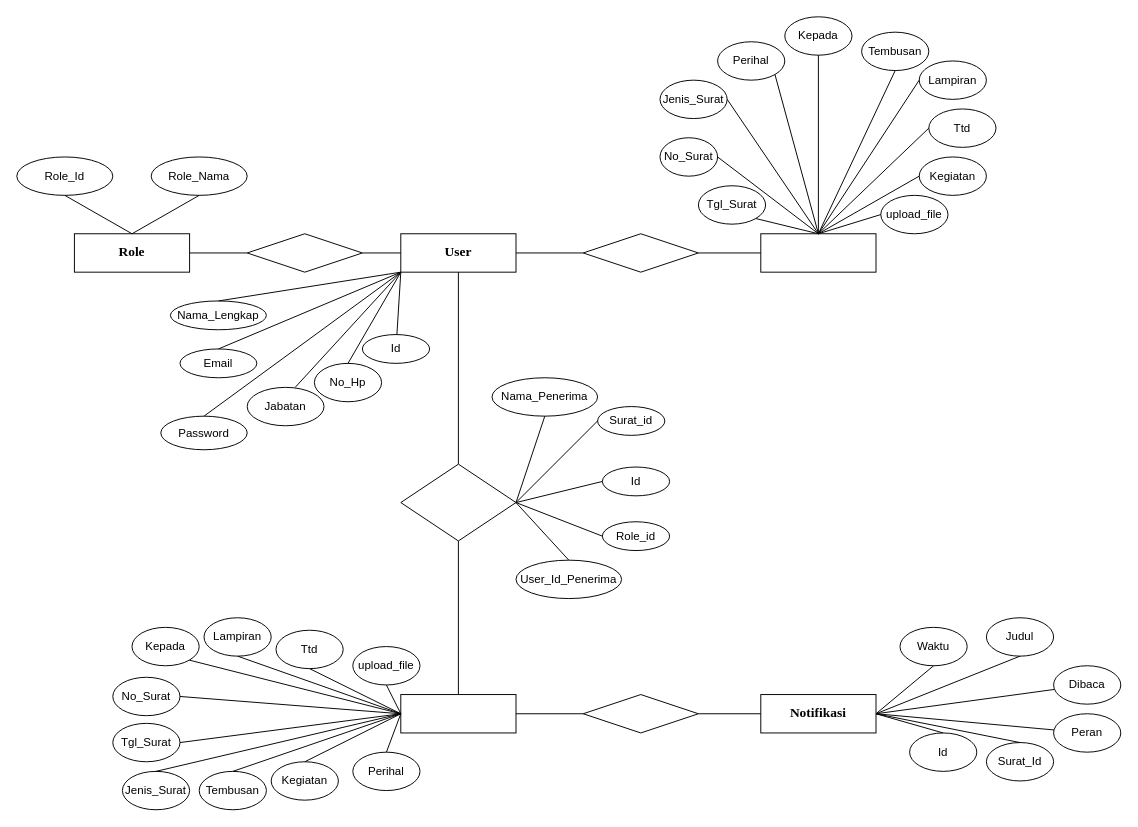
This 1138x827 diagram has some shape labels left out. The box of each missing label's shape, as (x1, y1, x2, y2) in pixels:
Disposisi: (400, 463, 516, 541)
Mempunyai: (246, 233, 362, 272)
Mengelola: (582, 233, 698, 272)
Menghasilkan: (582, 694, 698, 733)
Surat Keluar: (760, 233, 876, 272)
Surat Masuk: (400, 694, 516, 733)
